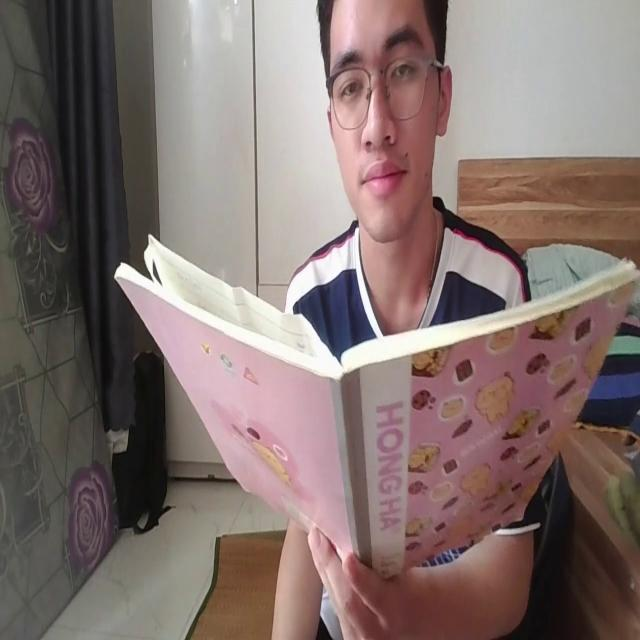book: (113, 227, 640, 583)
student: (276, 0, 546, 640)
